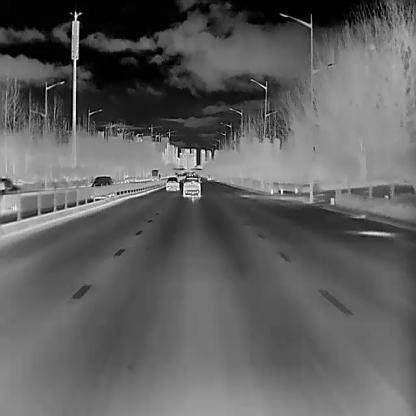car: (89, 176, 113, 199), (182, 174, 202, 197), (166, 176, 179, 190), (150, 169, 160, 181)
